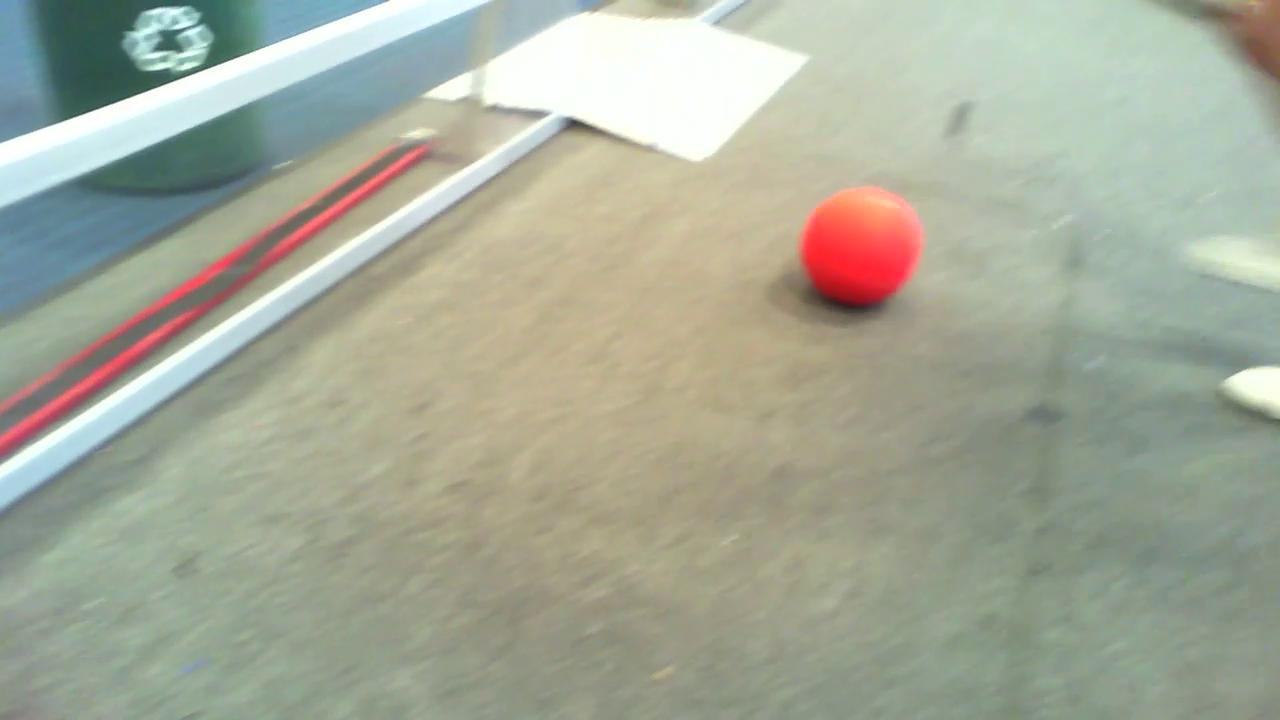Red_Ball: (788, 175, 928, 313)
